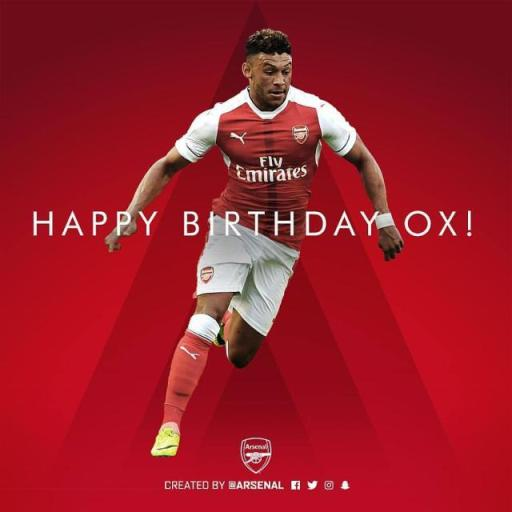Emirates: (232, 154, 310, 184)
